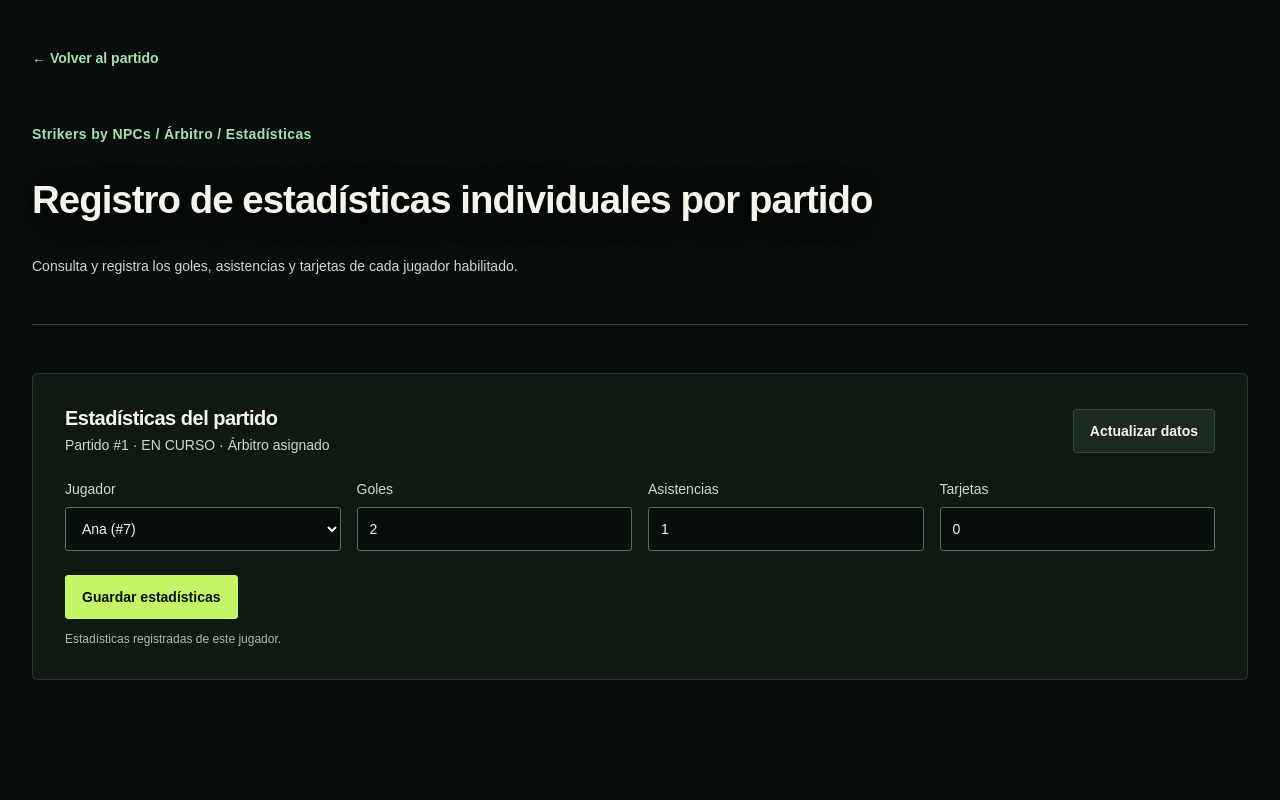
muestra lo guardado al actualizar y permite confirmar una edición
Replace the text in the number field labelled "goles" with "3": x=494, y=529 356,507 -> 632,551
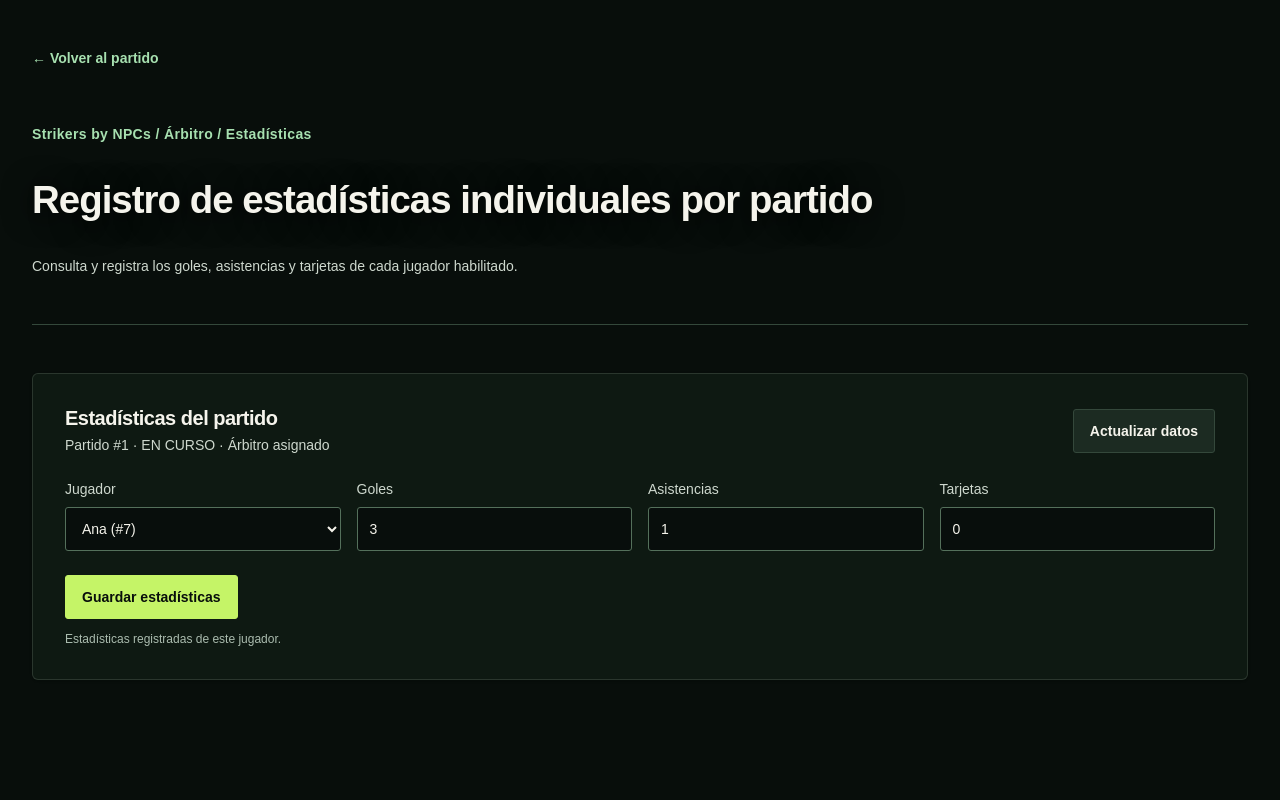
Click the button "Guardar estadísticas": x=151, y=597 65,575 -> 238,619
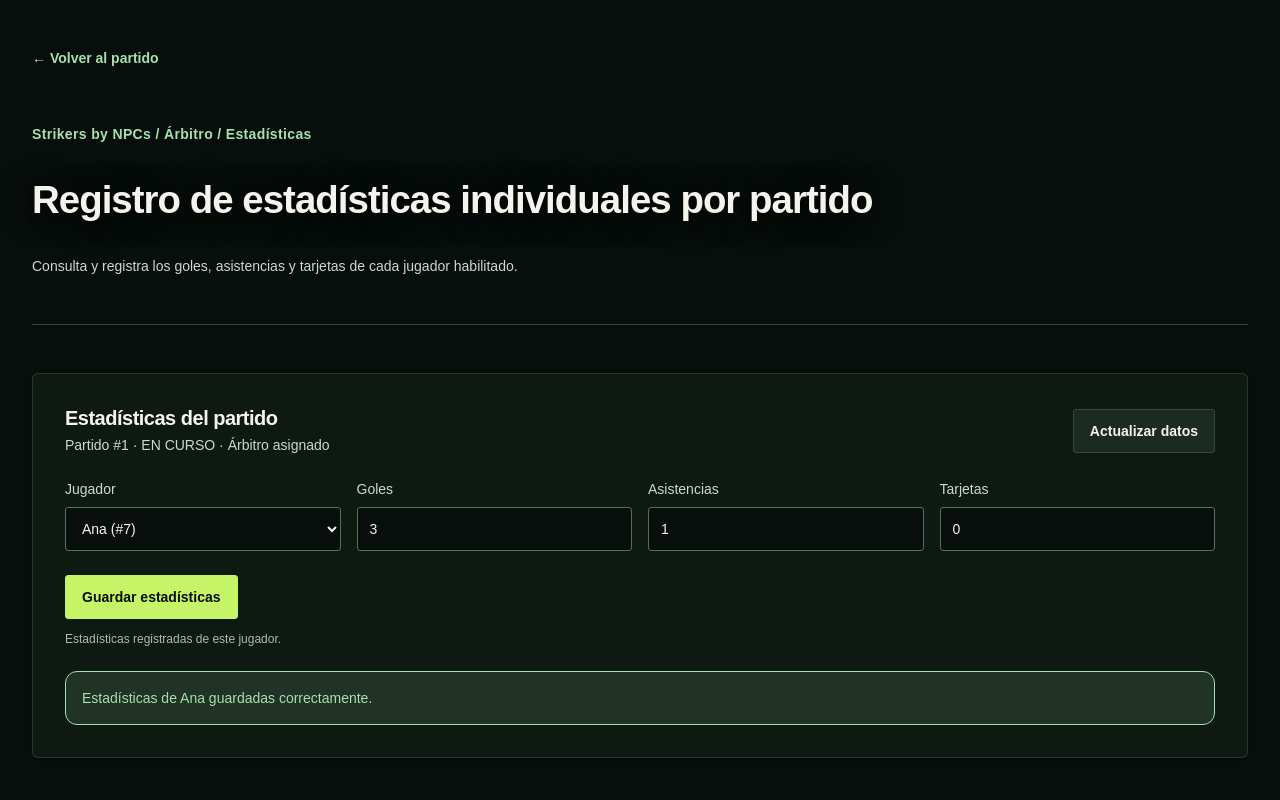
Expected: the text "Estadísticas de Ana guardadas correctamente." is shown, 65,671 -> 1215,725
Click the button "Actualizar datos": x=1144, y=430 1073,408 -> 1215,452
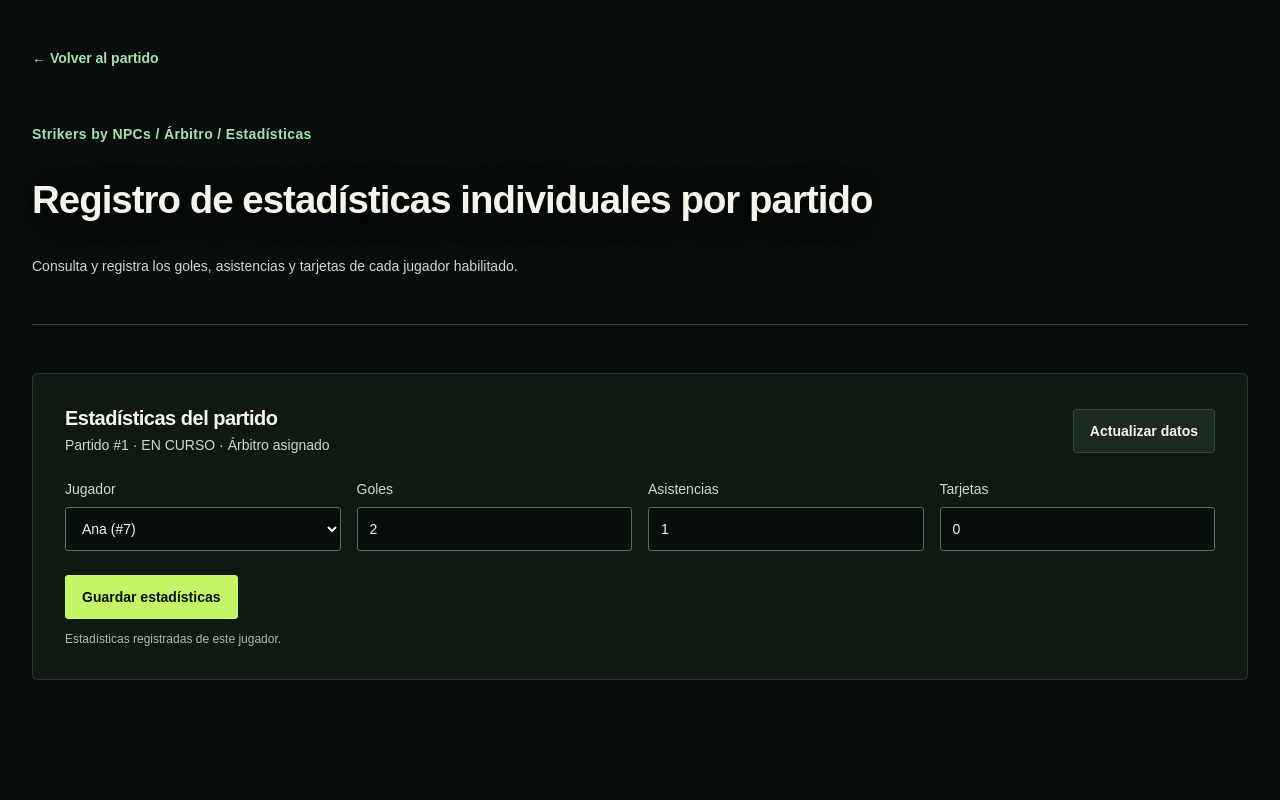
Expected: the number field labelled "goles" holds "2", 356,507 -> 632,551
